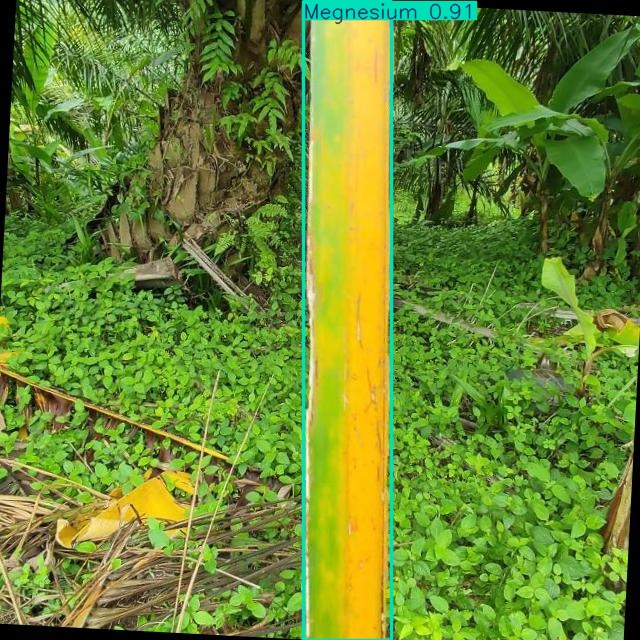Megnesium: (304, 2, 392, 640)
